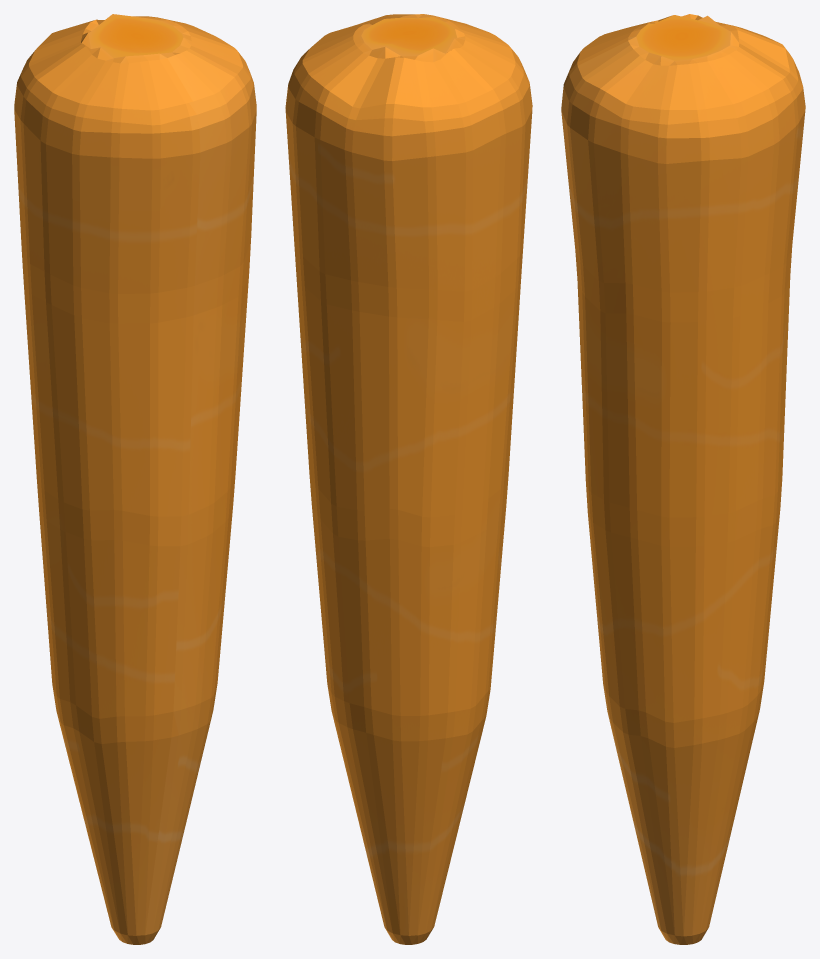
File: Carrot.obj
3 views of the same model, side by side, from view 1: azimuth 30°, elevation 25°; view 2: azimuth 150°, elevation 25°; view 3: azimuth 270°, elevation 25° (orthographic).
Parts seen in each view (by area): view 1: Carrot1; view 2: Carrot1; view 3: Carrot1.
Boxes of the visible parts, box(x1,y1,x2,y2) form: Carrot1: box(14, 14, 256, 944); Carrot1: box(285, 14, 532, 944); Carrot1: box(561, 14, 805, 944).
Bounding box in the file's own units: 0.2439 × 1 × 0.2446.
1 material, 1 textured.
